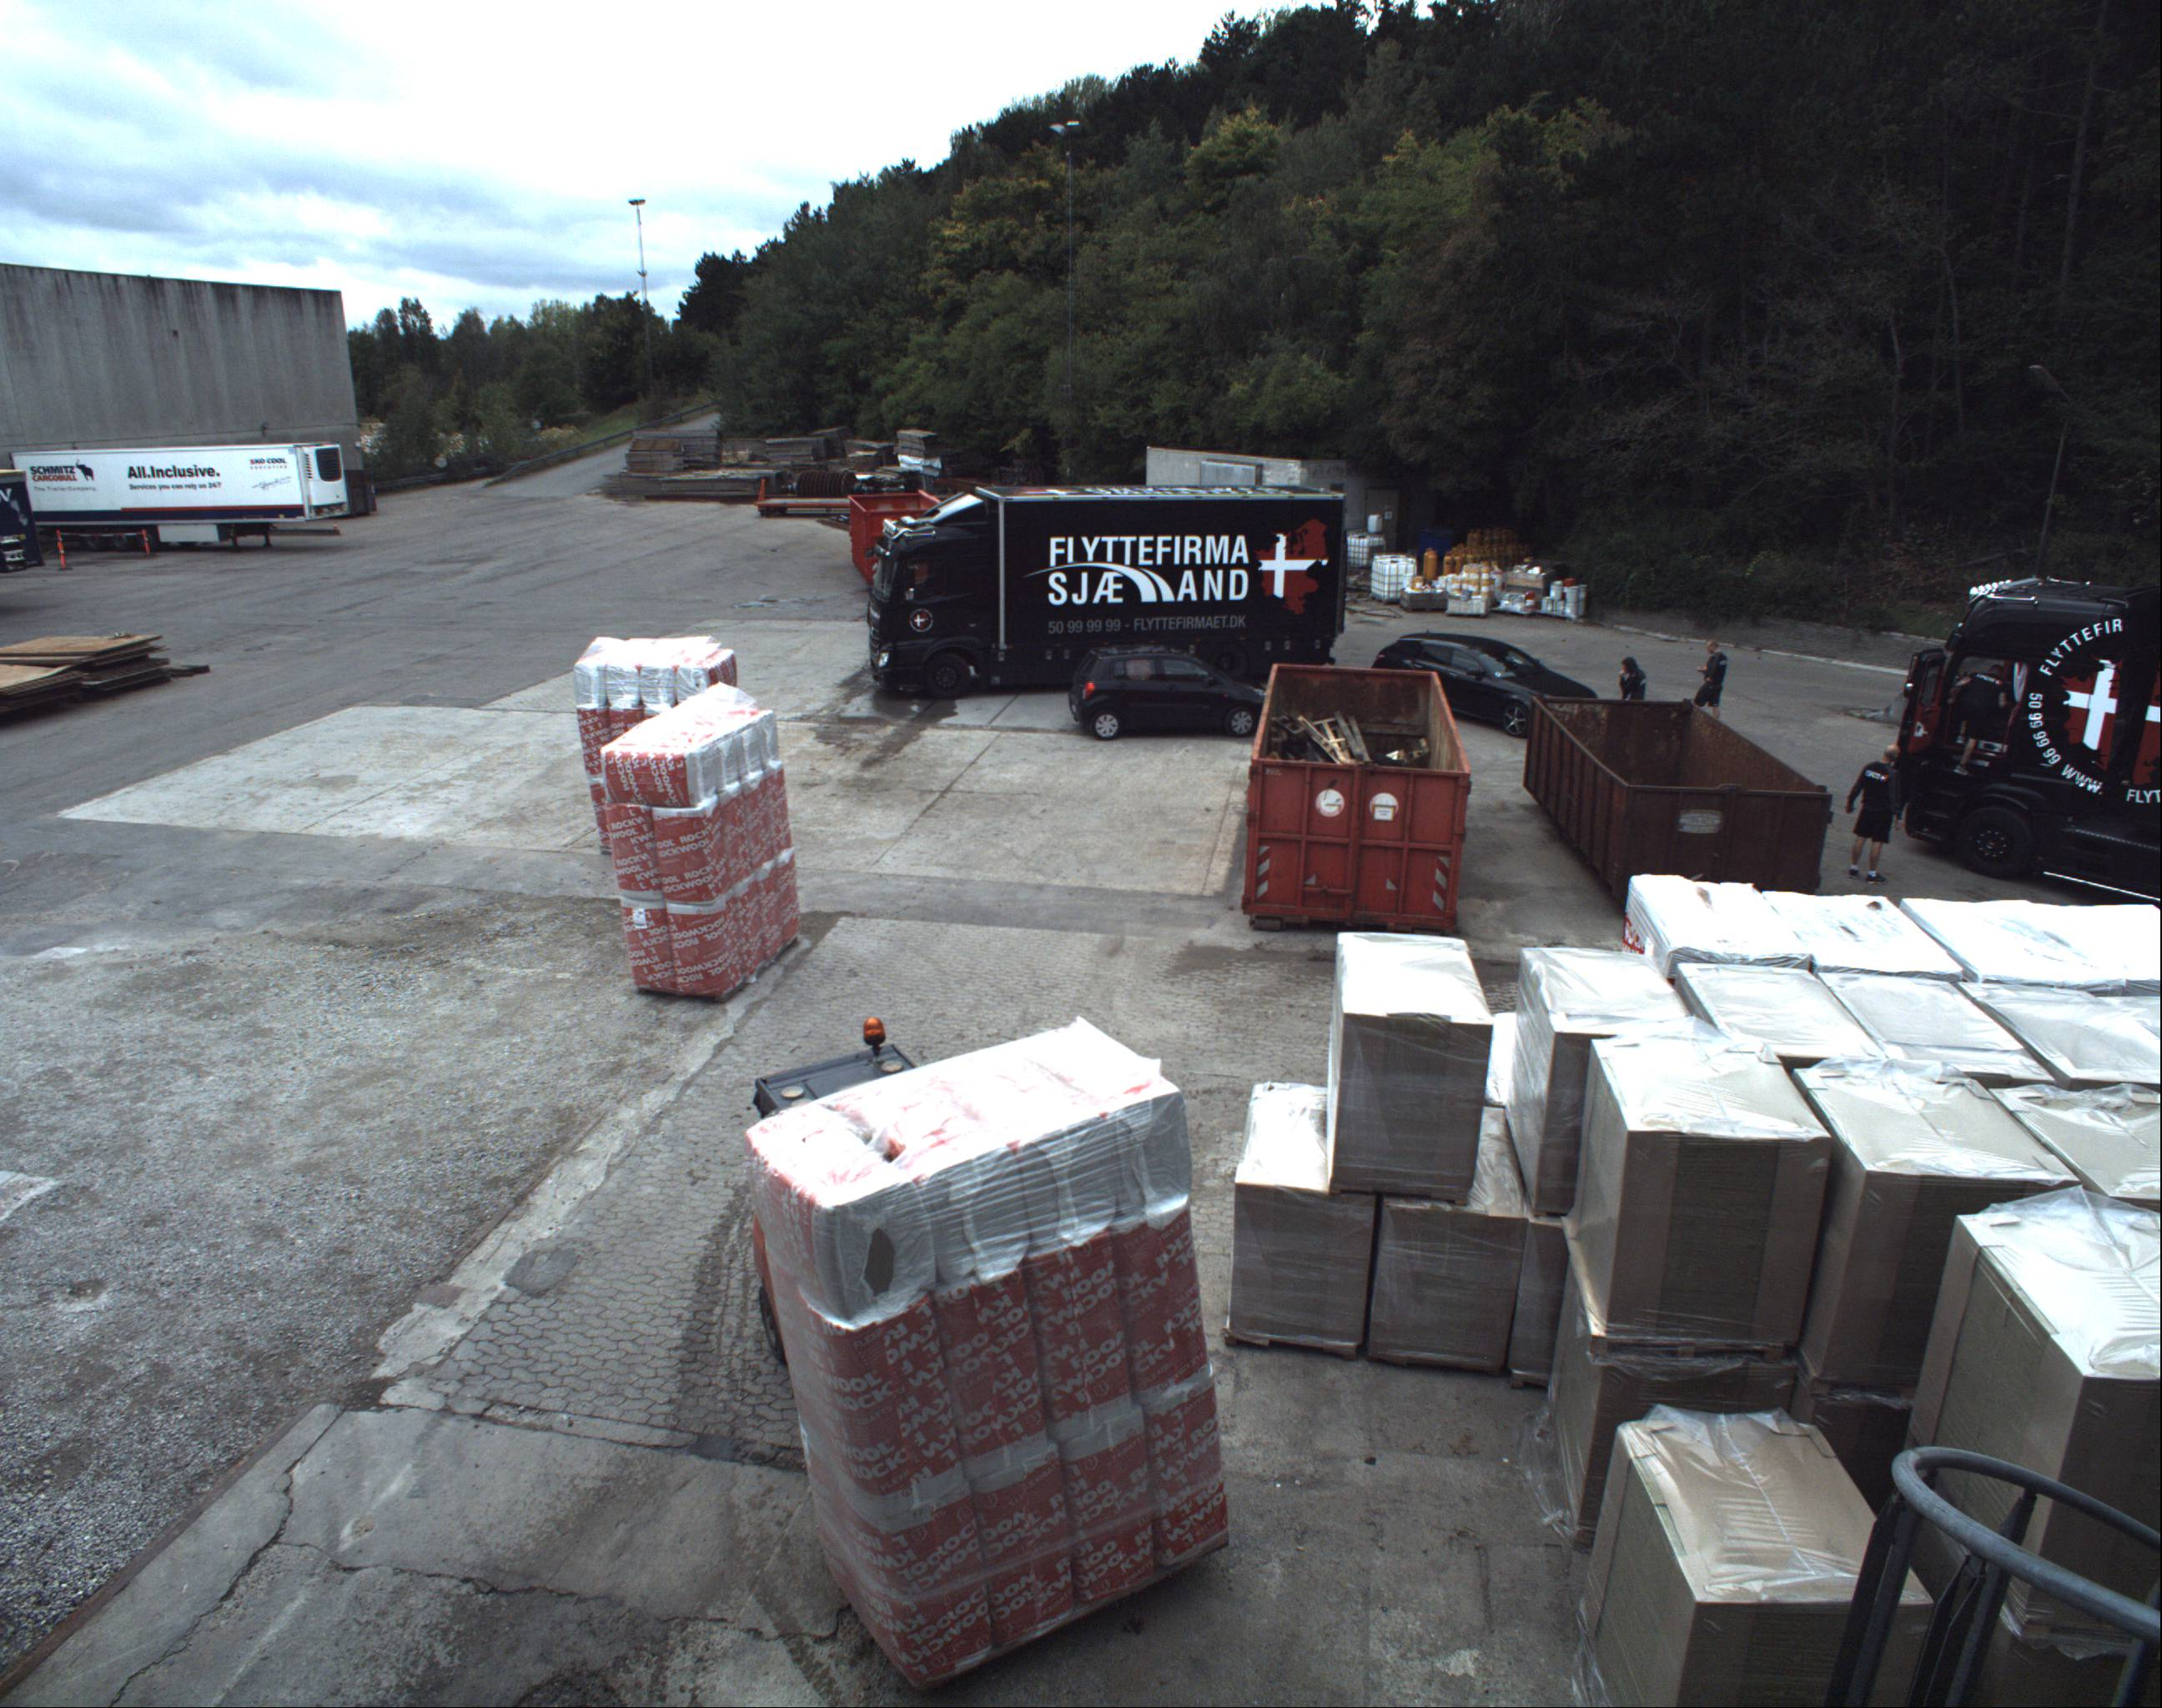rockwool_batts: (774, 1008, 1234, 1687), (607, 683, 797, 1001), (567, 614, 730, 772)
